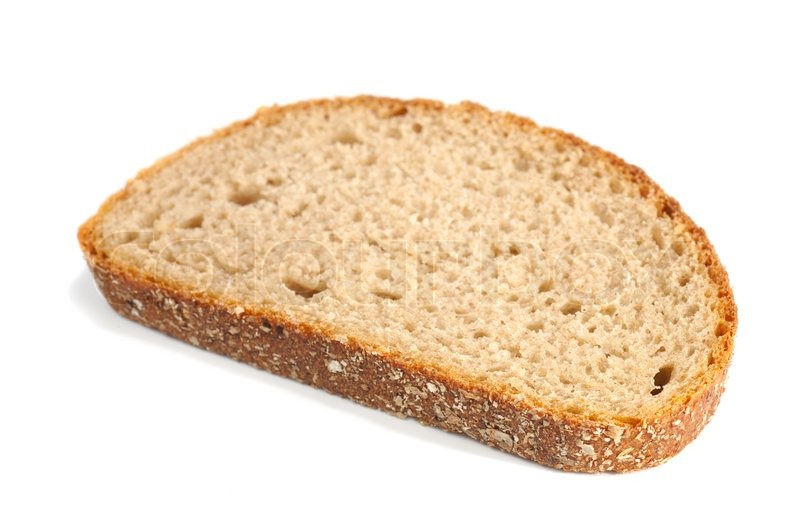slice of bread: (81, 89, 735, 474)
